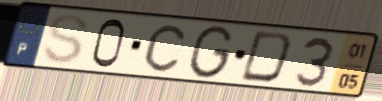0: (90, 17, 126, 70)
3: (291, 34, 336, 89)
C: (142, 23, 188, 74)
D: (237, 29, 296, 86)
G: (185, 24, 236, 81)
S: (40, 12, 92, 66)
